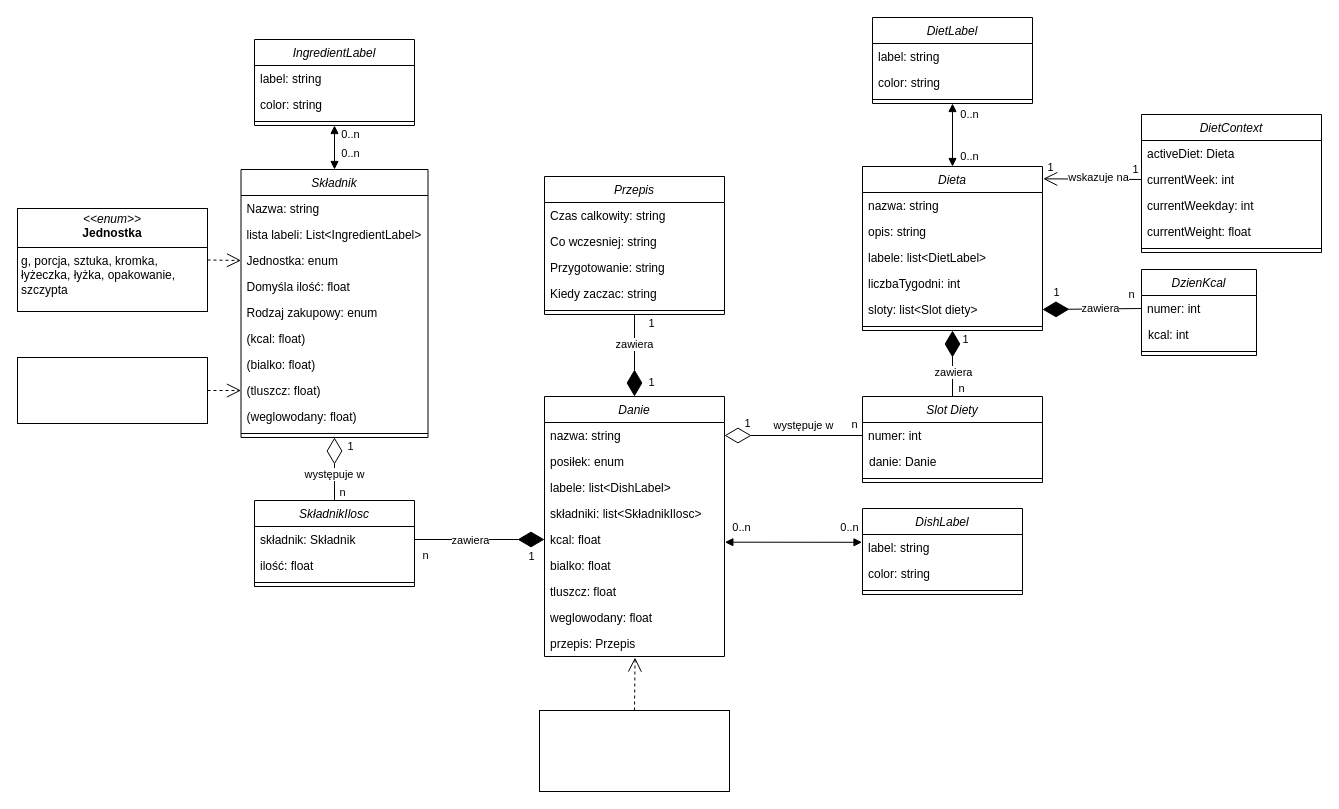
Some shapes in this 1339 by 809 pixel diagram are drawn without their labels. Each missing label, with the centre of its shape:
<<enum>> Posiłek Breakfast, Main Meal, Pre-Workout, Post-Workout: (x=634, y=751)
<<enum>> Rodzaj zakupowy Lidl, Świeże, Zapasy: (x=112, y=390)
